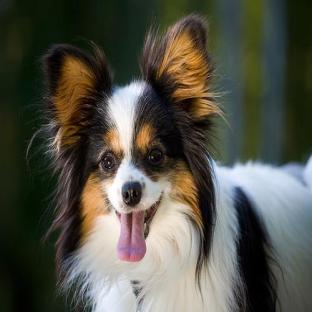Animal: (41, 15, 311, 311)
